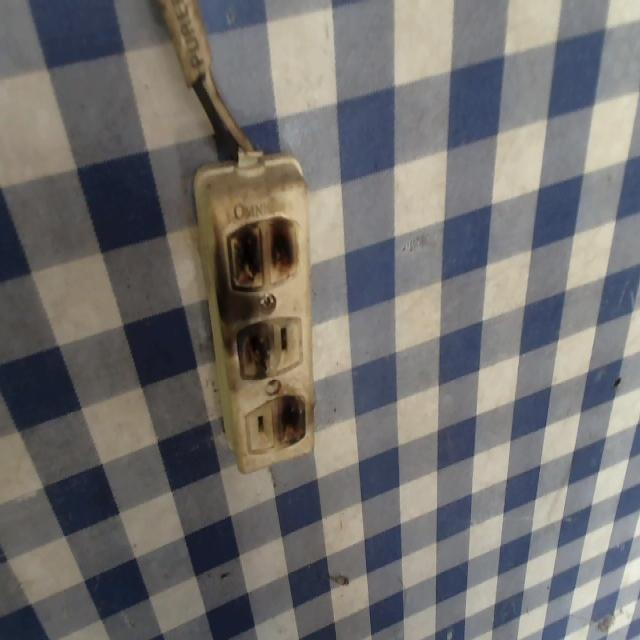-: (214, 204, 316, 293), (220, 316, 275, 387), (266, 388, 317, 449)
